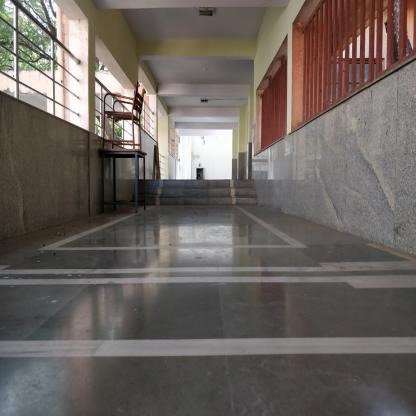stairs: (150, 179, 256, 207)
